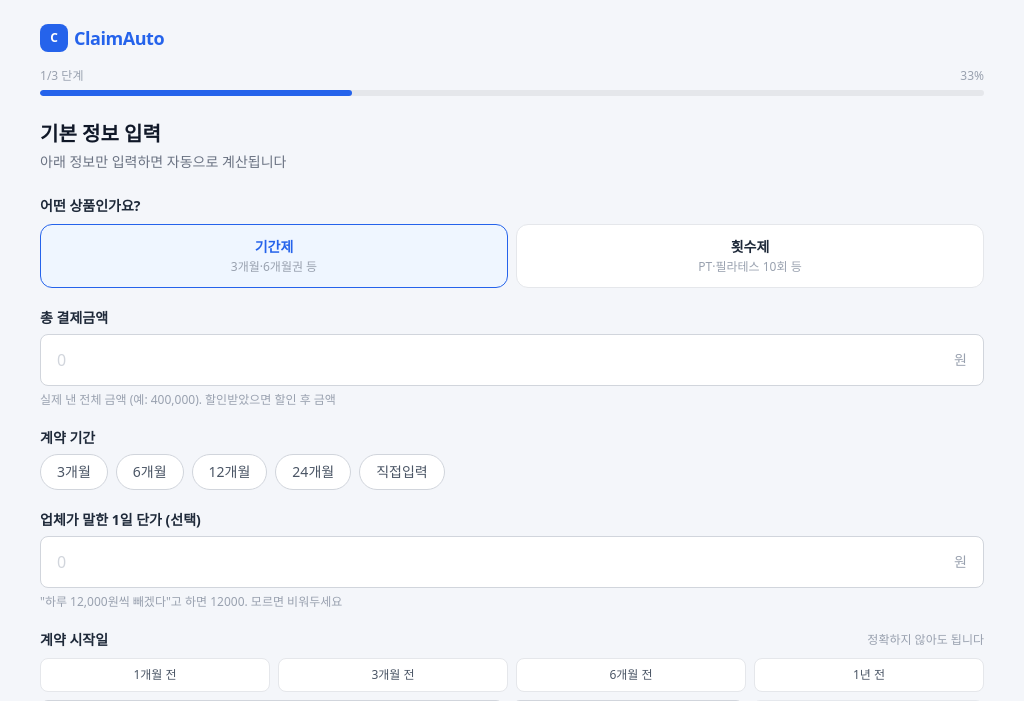
Scenario: FormPage › 계약 기간 칩 선택 시 월 환산금액이 자동 계산된다
Type "400000" into the field with placeholder "0" below "총 결제금액" at (502, 360), box left=57, top=348, right=946, bottom=372
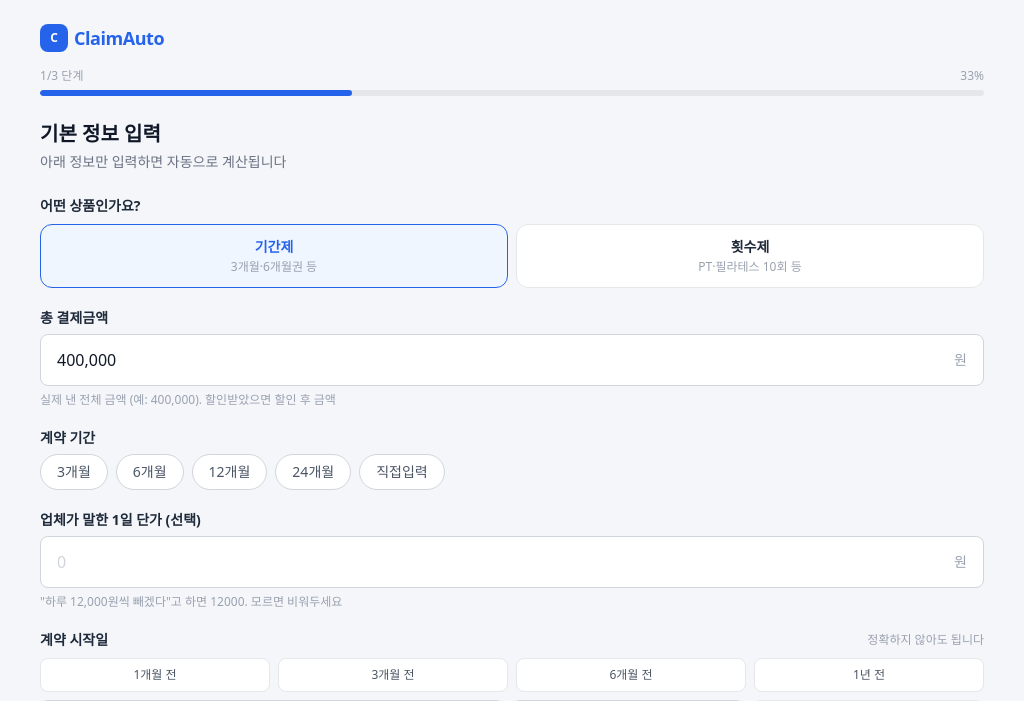
Click the button "12개월" at (230, 472), box left=192, top=454, right=267, bottom=490
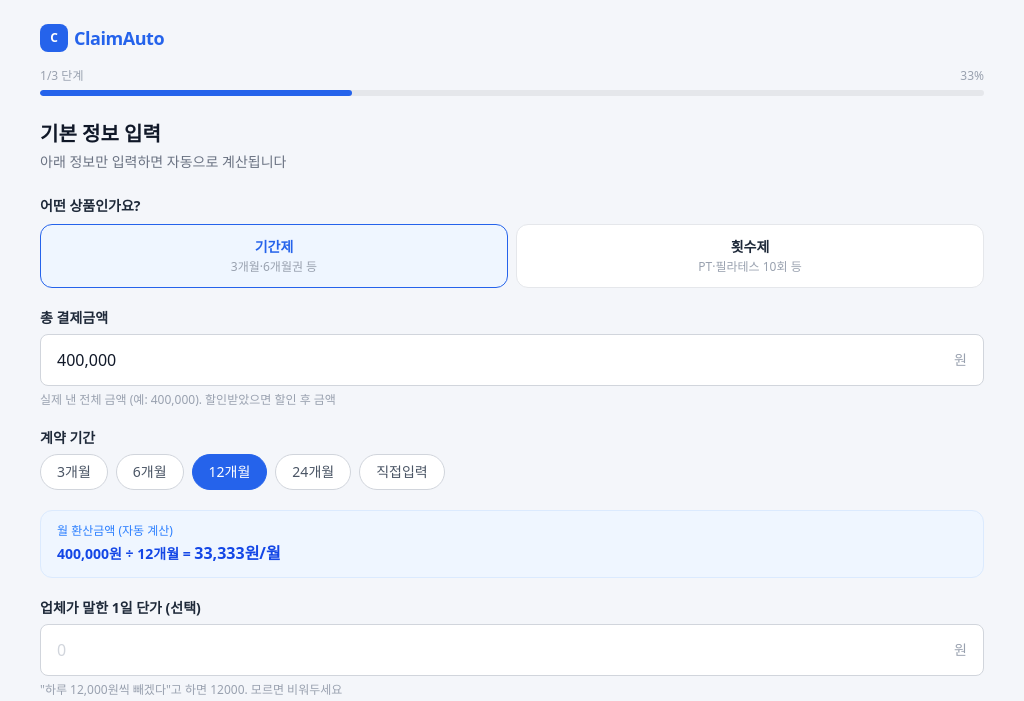
Expected: the text "33,333원/월" is shown, left=194, top=542, right=281, bottom=564
